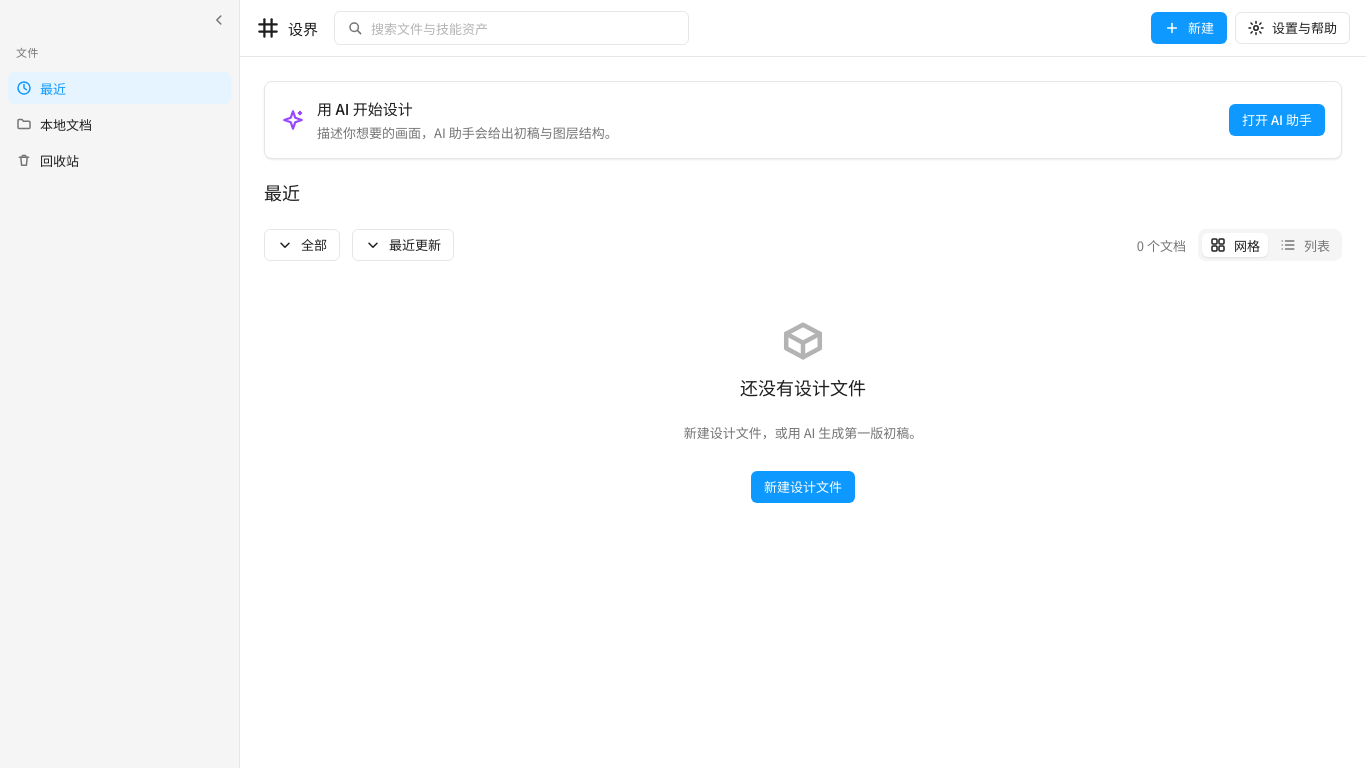
Test: HomeView · 侧栏与回收站空态 › 侧栏折叠按钮可开合（图标模式）
The image size is (1366, 768).
Expected: the text "还没有设计文件" is shown, 740,377 -> 866,399
Click the button named "折叠侧栏": point(219, 20) 207,8 -> 231,32
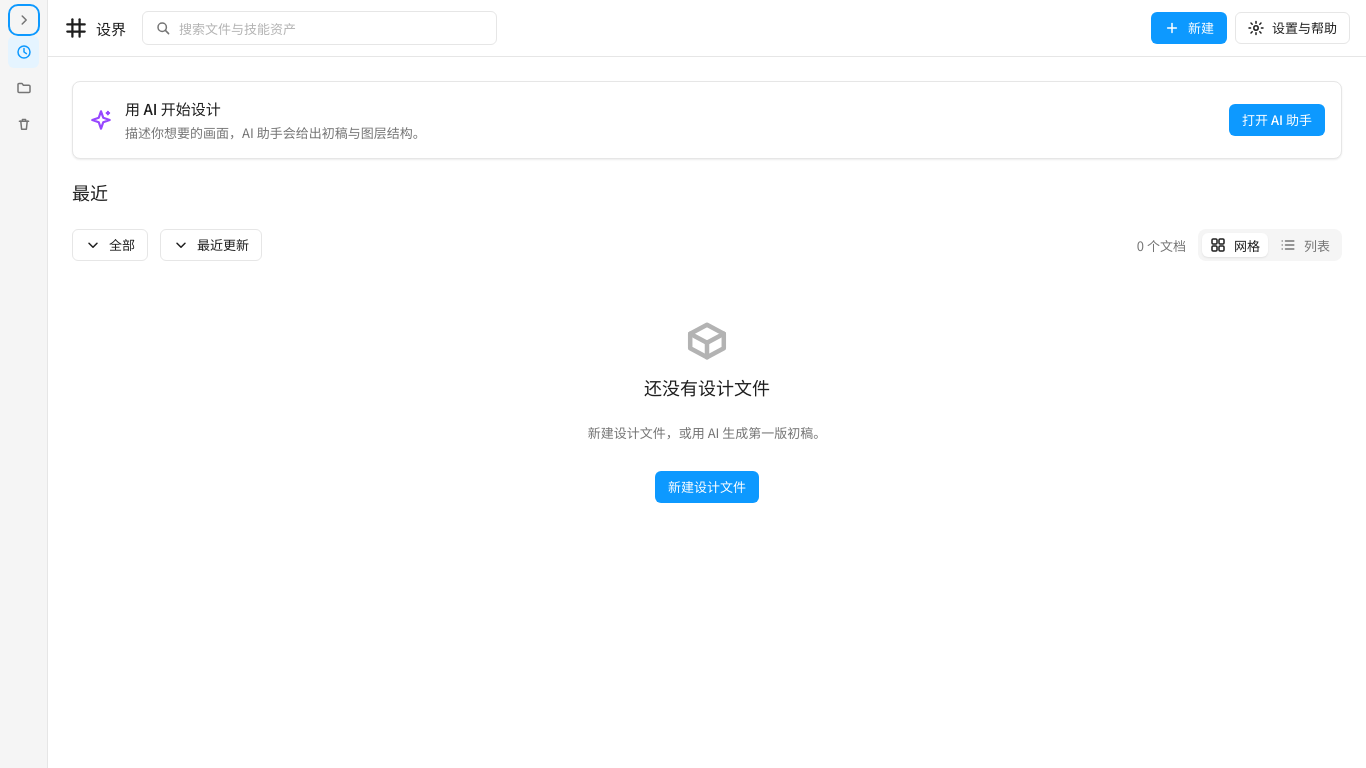
Expected: the button named "展开侧栏" is shown, 12,8 -> 36,32
